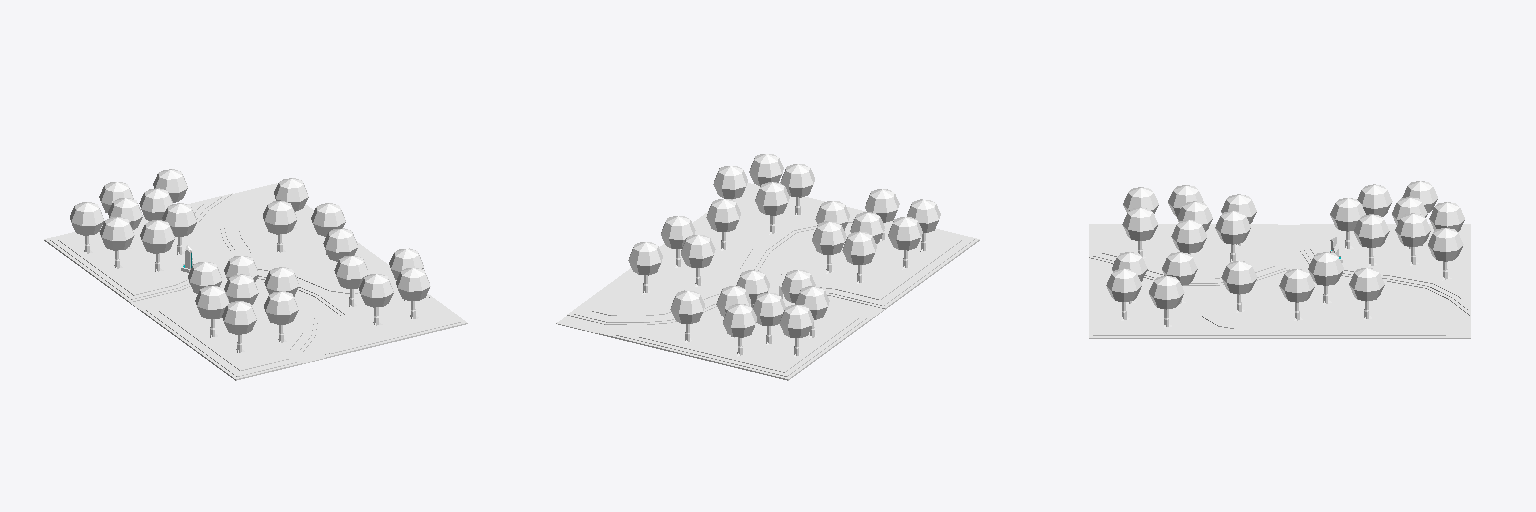
The picture shows the model from 3 angles: view 1: azimuth 30°, elevation 25°; view 2: azimuth 150°, elevation 25°; view 3: azimuth 270°, elevation 25°; orthographic projection.
Parts seen in each view (by area): view 1: SketchUp, ID264, ID294, ID288, ID282, ID276, ID270, Group_2, group_25, group_41, group_33, group_13 (+19 smaller); view 2: SketchUp, ID294, ID264, ID282, ID288, ID276, Group_2, ID270, group_29, group_1, group_17, group_5 (+19 smaller); view 3: ID264, SketchUp, ID294, ID282, ID288, ID276, ID270, Group_2, group_5, group_45, group_31, group_7 (+19 smaller).
Part boxes in pixels (x1,y1,x2,y2): SketchUp: (44, 183, 467, 380); ID264: (223, 195, 461, 353); ID294: (238, 202, 378, 293); ID288: (159, 293, 304, 370); ID282: (58, 204, 203, 295); ID276: (146, 286, 314, 376); ID270: (50, 197, 221, 299); Group_2: (84, 226, 418, 352); group_25: (264, 291, 298, 324); group_41: (100, 217, 134, 250); group_33: (140, 220, 174, 253); group_13: (359, 274, 393, 307); SketchUp: (556, 183, 979, 380); ID294: (592, 233, 753, 315); ID264: (573, 184, 862, 322); ID282: (639, 303, 859, 372); ID288: (795, 232, 961, 299); ID276: (785, 229, 974, 305); Group_2: (642, 197, 927, 356); ID270: (616, 301, 868, 376); group_29: (888, 217, 922, 250); group_1: (812, 221, 846, 254); group_17: (755, 182, 789, 215); group_5: (681, 235, 715, 267); ID264: (1093, 271, 1445, 335); SketchUp: (1089, 224, 1470, 338); ID294: (1202, 288, 1431, 328); ID282: (1310, 227, 1460, 298); ID288: (1102, 229, 1274, 278); ID276: (1092, 225, 1285, 283); ID270: (1304, 225, 1467, 309); Group_2: (1121, 231, 1451, 327); group_5: (1308, 252, 1343, 285); group_45: (1395, 213, 1430, 246); group_31: (1354, 214, 1389, 247); group_7: (1279, 269, 1314, 302).
Size of the model in its own units: 10.42 by 2.26 by 14.88.